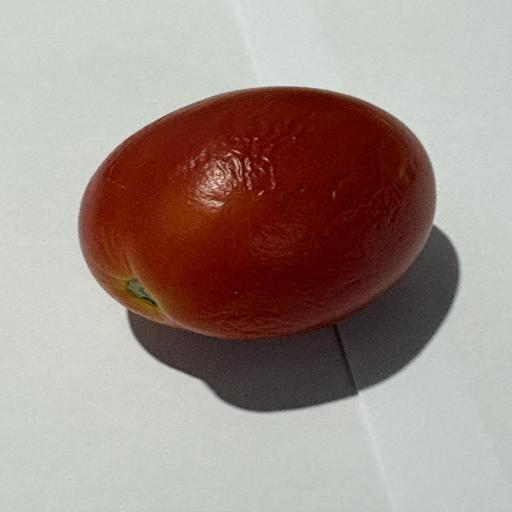spoiled: (79, 87, 435, 339)
